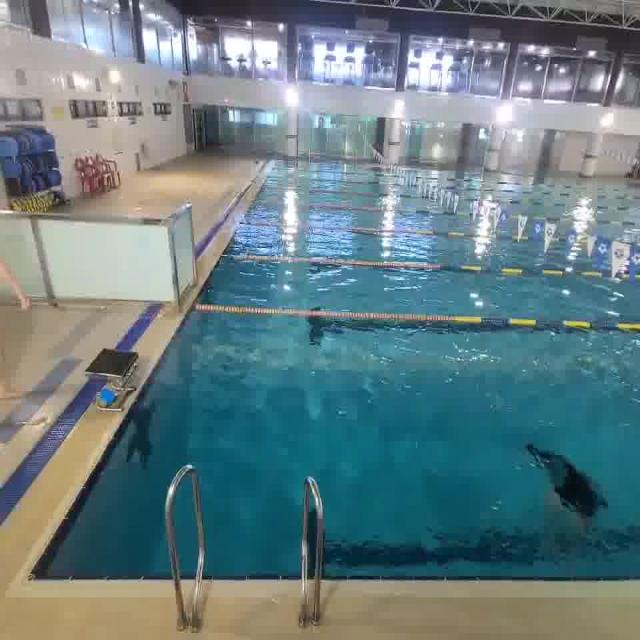Drowning: (504, 420, 622, 561)
